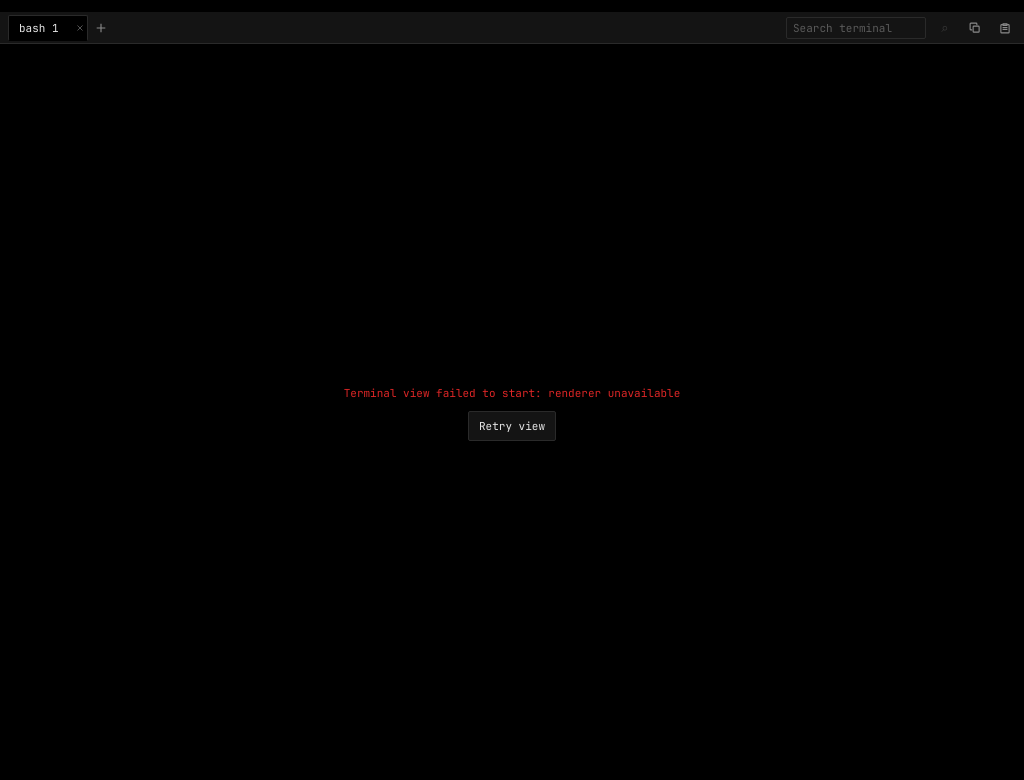
Scenario: TerminalPanel shell lifecycle › reports a failed xterm view and retries it without inventing a shell
Expected: the text "Terminal view failed to start: renderer unavailable" is shown, [344,383,680,403]
Click the button "Retry view": (512, 426) [468,411,556,441]
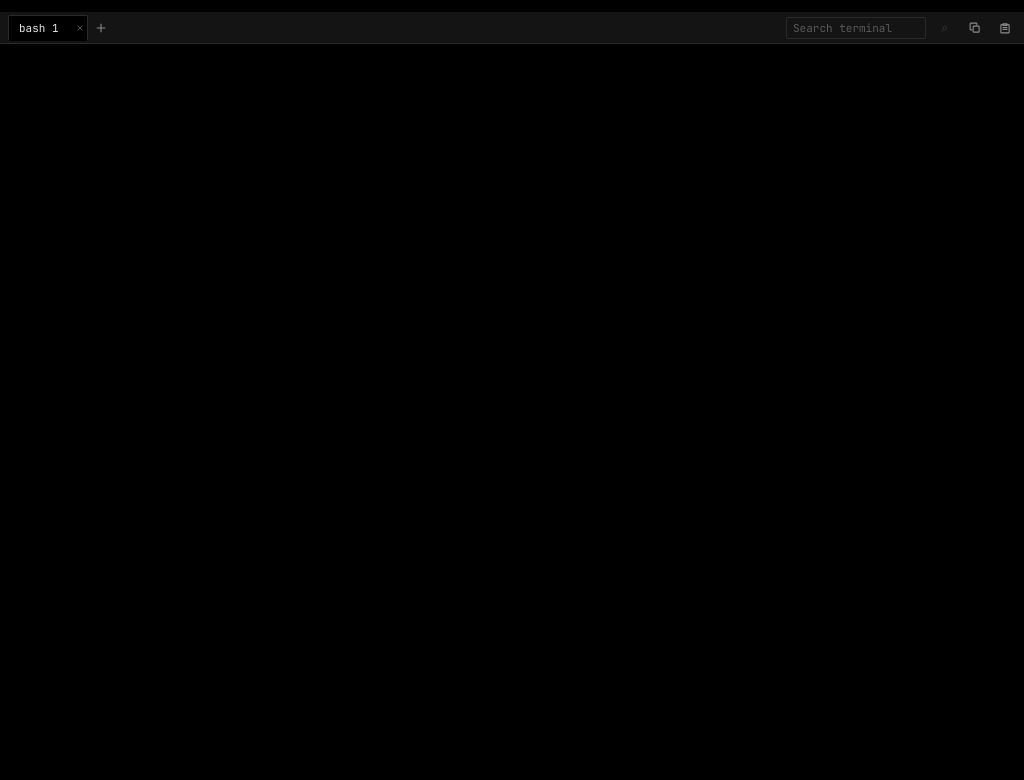
Expected: the element with test id "terminal-xterm-term-1" is shown
